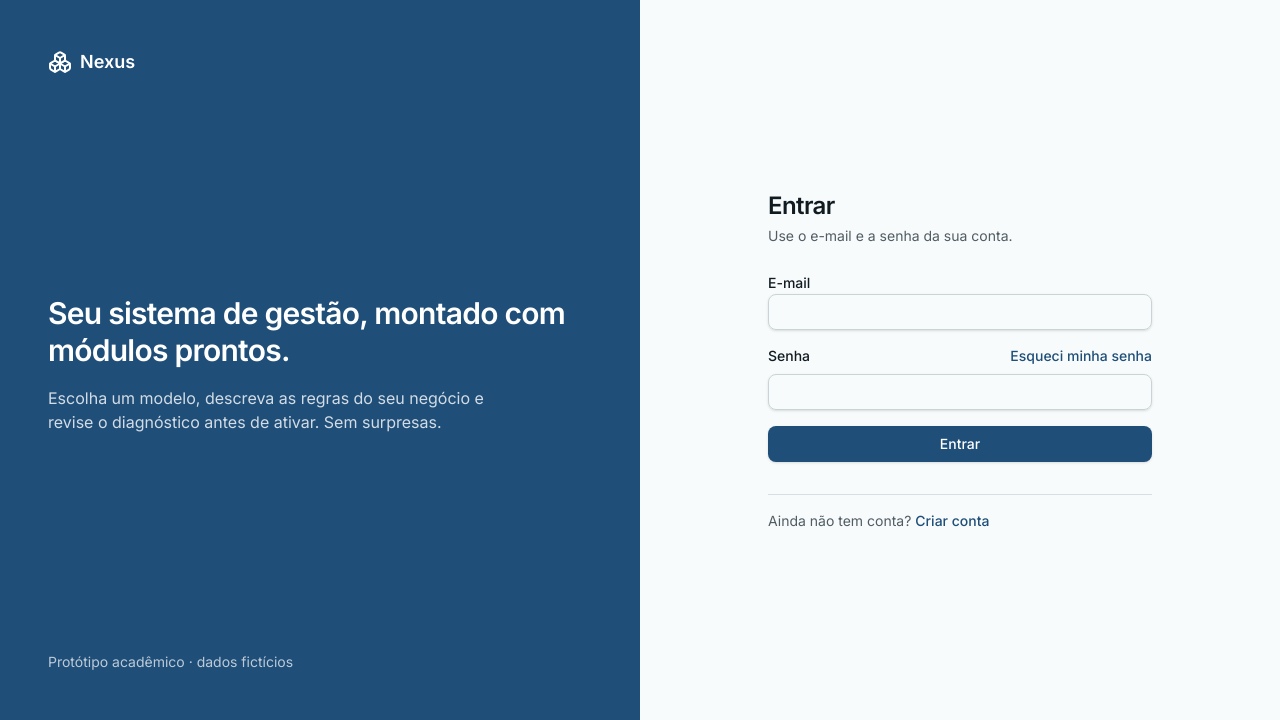
Test: Entrar › cadastro aberto (ADR-009) › cria a conta e pede para confirmar o e-mail
Click the button "Criar conta": {"x": 952, "y": 520} [915,510,990,530]
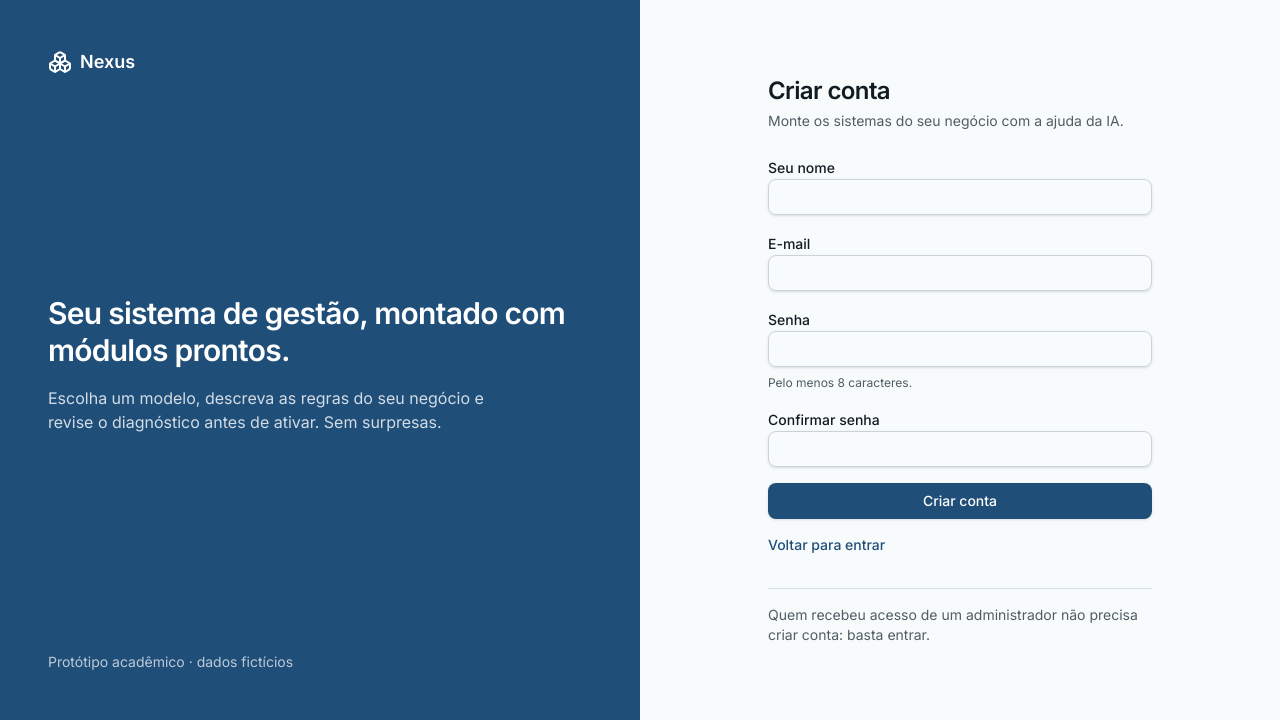
Expected: the heading "Criar conta" is shown, [768,76,890,105]
In the field labelled "Seu nome": {"x": 960, "y": 197} [768,179,1152,215], type "Maria Souza"
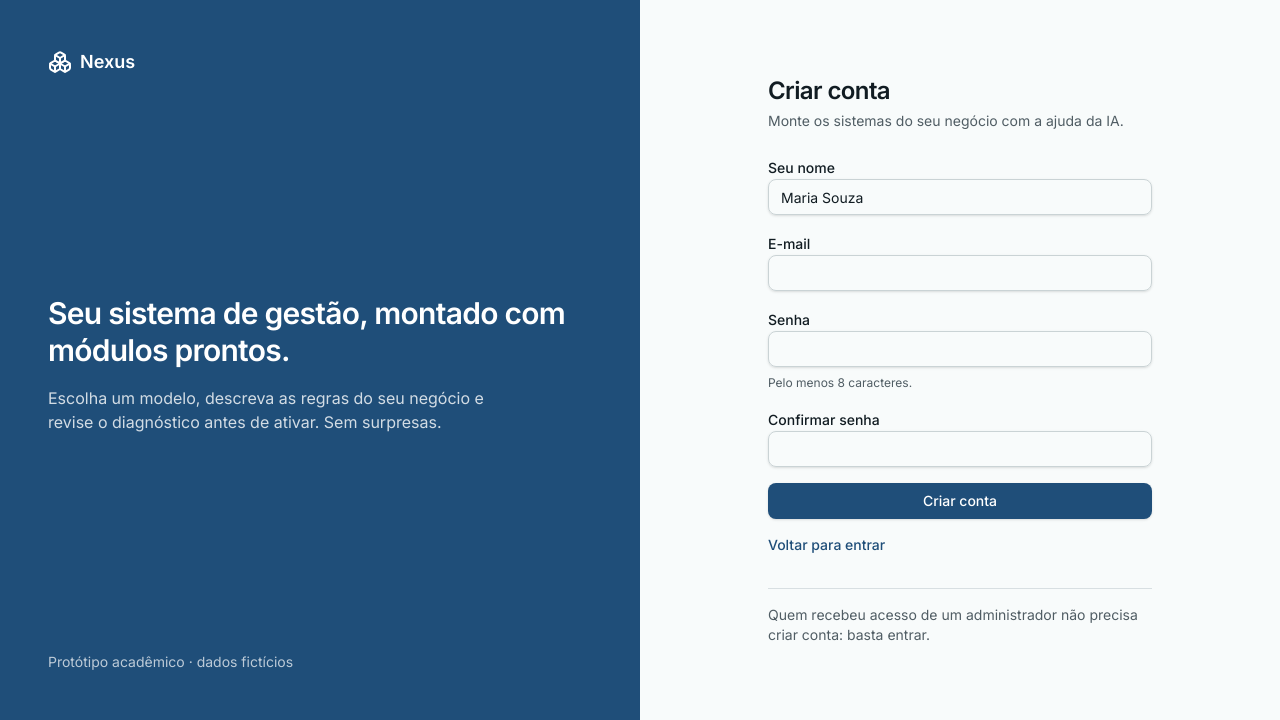
In the field labelled "E-mail": {"x": 960, "y": 273} [768,255,1152,291], type "maria@exemplo.com"
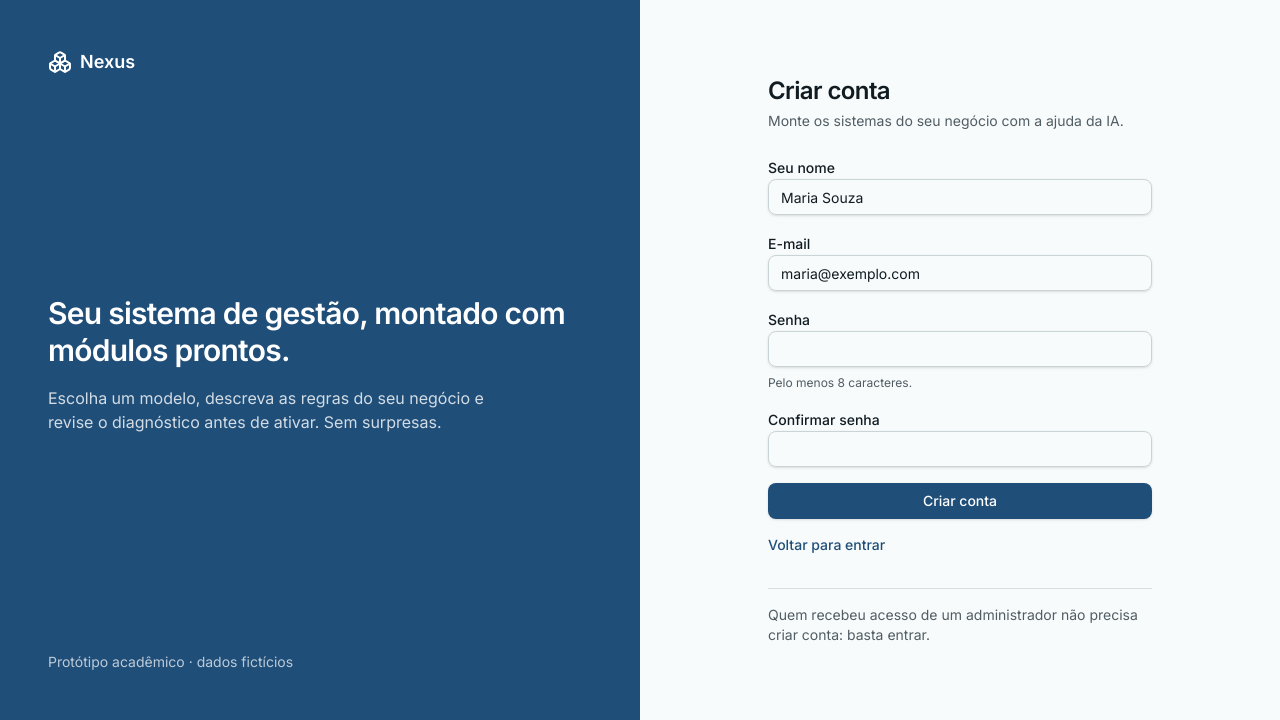
In the password field labelled "Senha": {"x": 960, "y": 349} [768,331,1152,367], type "senha-ficticia-1"
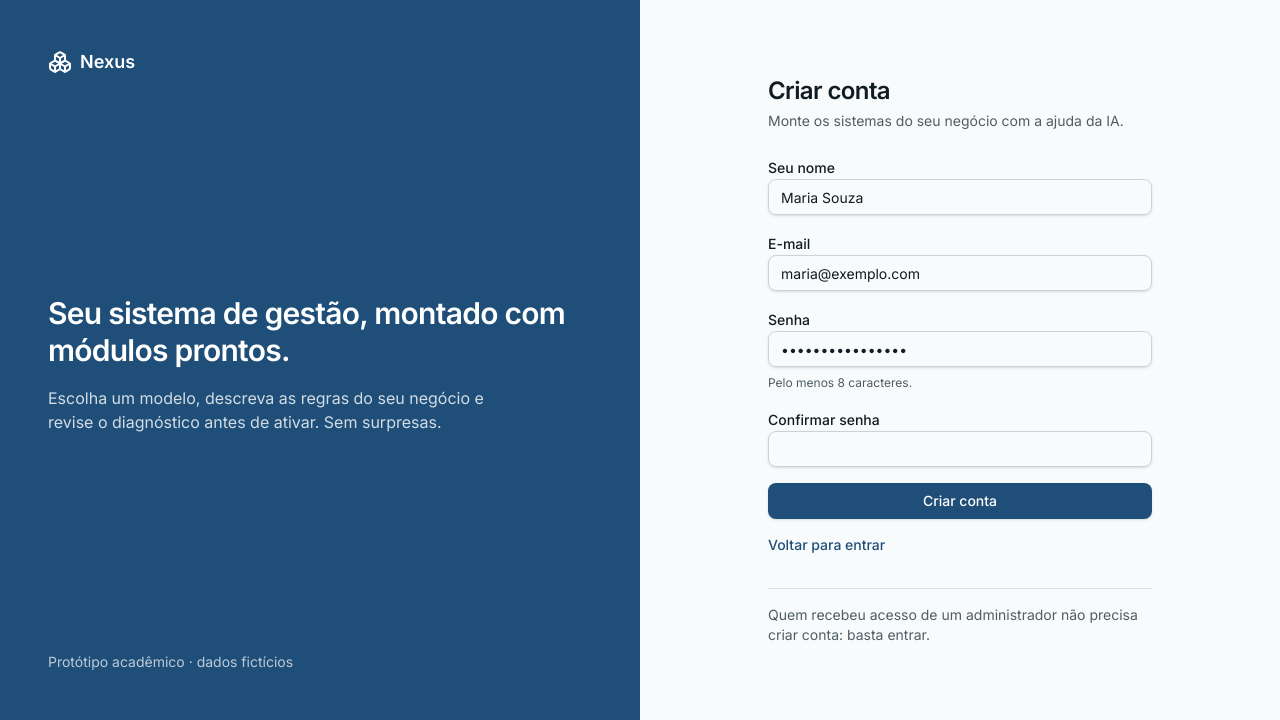
In the password field labelled "Confirmar senha": {"x": 960, "y": 449} [768,431,1152,467], type "senha-ficticia-1"
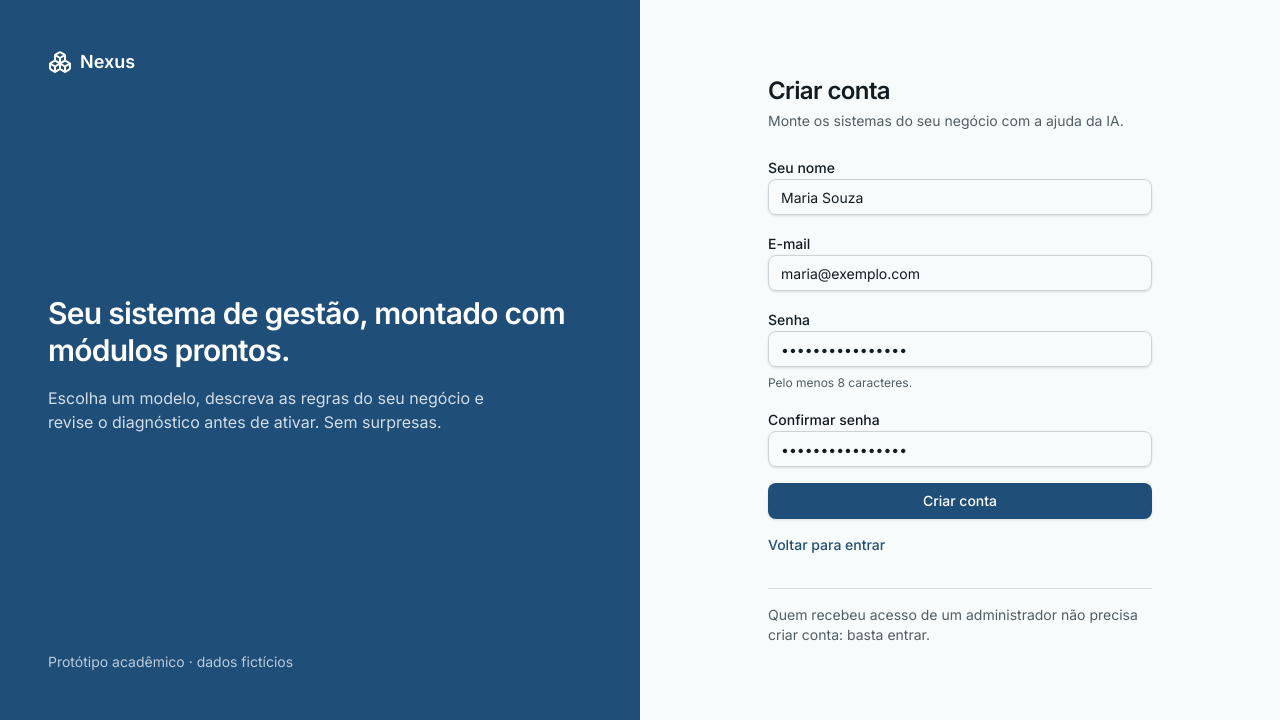
Click the button "Criar conta": {"x": 960, "y": 501} [768,483,1152,519]
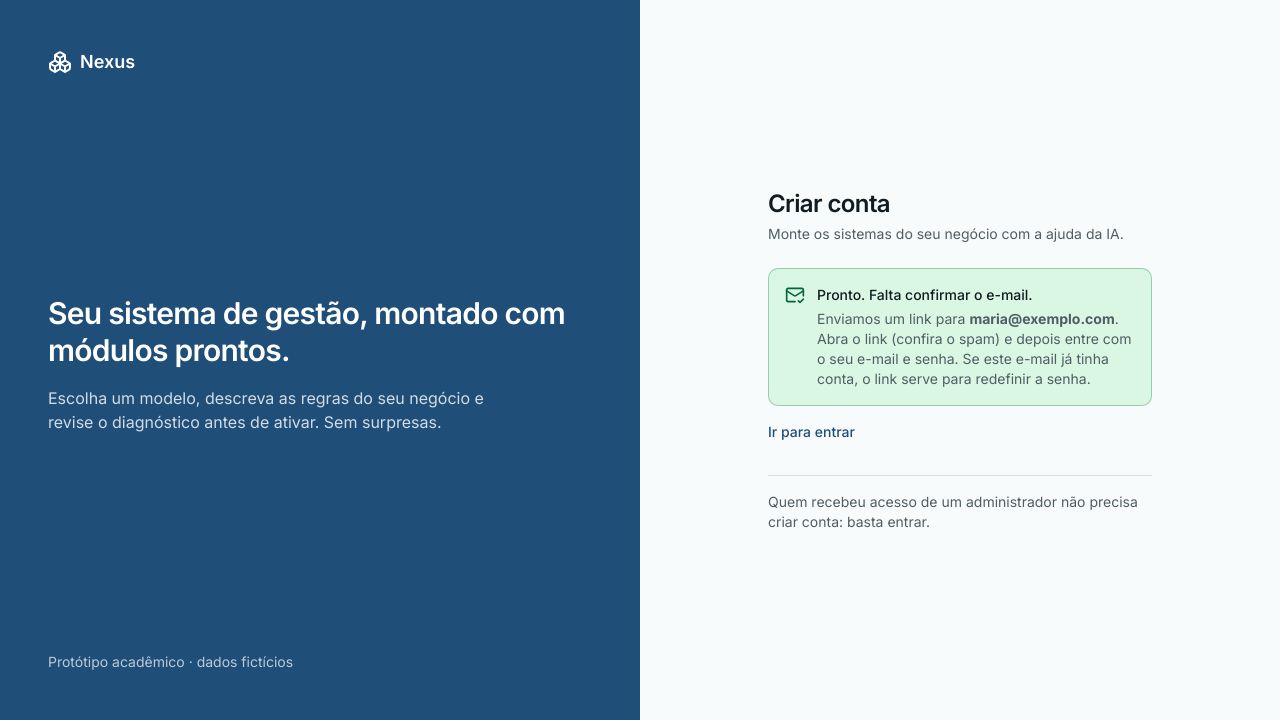
Expected: the text "Pronto. Falta confirmar o e-mail." is shown, [817,286,1033,303]
